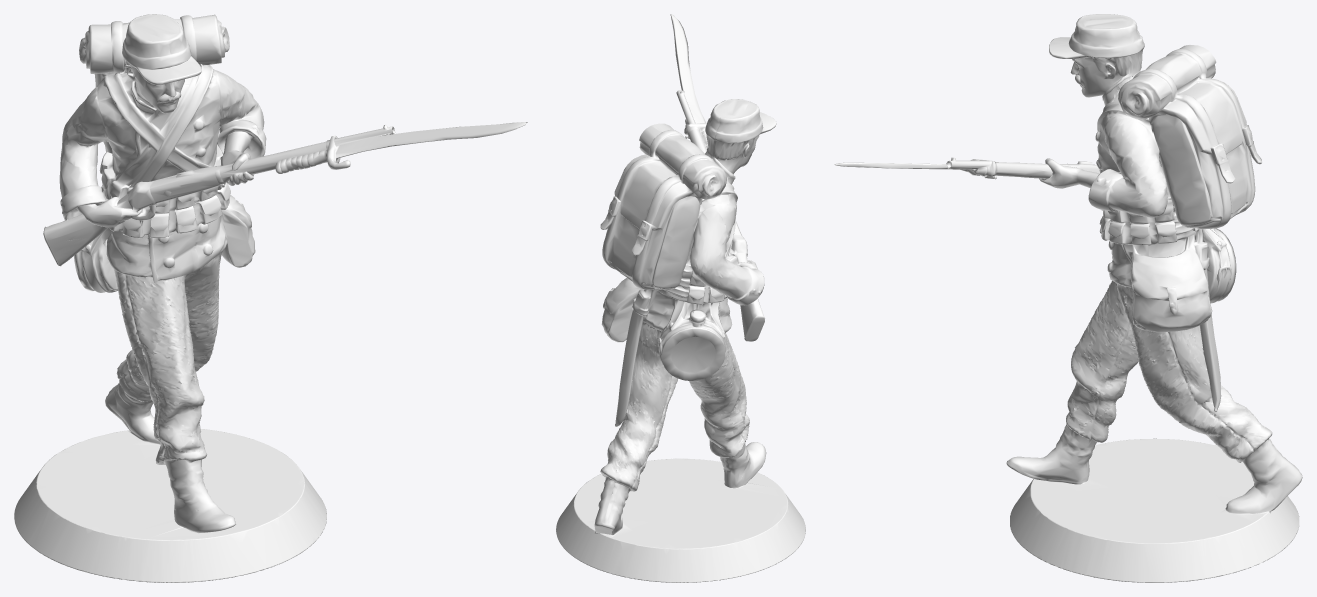
The model's file is Chilean Infantery_pose_marchando_low.glb.
3 views of the same model, side by side, from view 1: azimuth 30°, elevation 25°; view 2: azimuth 150°, elevation 25°; view 3: azimuth 270°, elevation 25° (orthographic). The views are drawn at different scales.
Parts seen in each view (by area): view 1: Chilean Infantery_pose low; view 2: Chilean Infantery_pose low; view 3: Chilean Infantery_pose low.
Part boxes in pixels (x1=…): Chilean Infantery_pose low: x1=14, y1=14, x2=527, y2=582; Chilean Infantery_pose low: x1=556, y1=14, x2=805, y2=582; Chilean Infantery_pose low: x1=834, y1=14, x2=1302, y2=582.
Size of the model in its own units: 55.42 by 86.08 by 75.61.
1 material, 1 textured.
